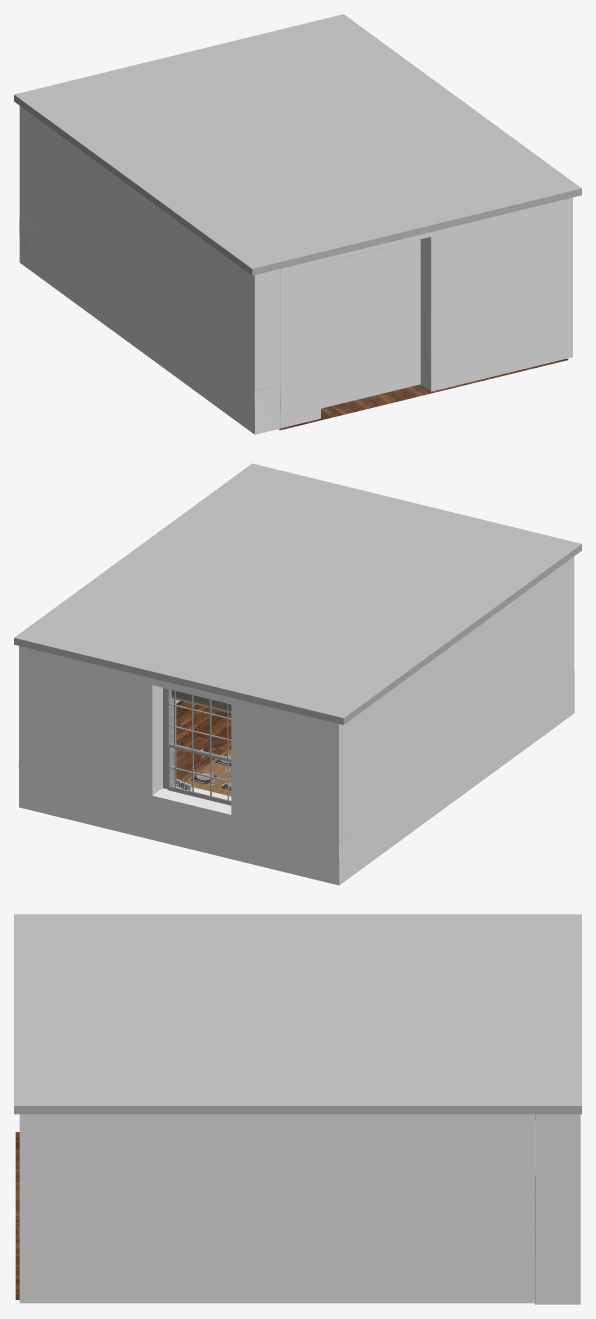
File: country_kitchen.glb
3 views of the same model, one above another, from view 1: azimuth 30°, elevation 25°; view 2: azimuth 150°, elevation 25°; view 3: azimuth 270°, elevation 25° (orthographic). The views are drawn at different scales.
Visible parts, largest first — view 1: 126_Ceiling, 127_Walls, 263_Walls, 125_Floor; view 2: 263_Walls, 126_Ceiling, 125_Floor, 203_WindowFrame, 63_Tabletop, 218_WindowFrame; view 3: 126_Ceiling, 127_Walls, 263_Walls, 125_Floor.
Boxes of the visible parts, x1,y1,x2,y2 form: 126_Ceiling: (14, 14, 581, 275); 127_Walls: (280, 197, 572, 428); 263_Walls: (19, 106, 280, 434); 125_Floor: (278, 358, 568, 430); 263_Walls: (18, 556, 574, 885); 126_Ceiling: (14, 463, 581, 724); 125_Floor: (176, 701, 231, 781); 203_WindowFrame: (167, 689, 231, 805); 63_Tabletop: (184, 749, 231, 796); 218_WindowFrame: (163, 688, 176, 789); 126_Ceiling: (14, 914, 581, 1114); 127_Walls: (19, 1114, 534, 1303); 263_Walls: (535, 1114, 580, 1304); 125_Floor: (15, 1132, 535, 1299).
Bounding box in the file's own units: 6.92 × 3.38 × 8.65.
67 materials, 16 textured.
